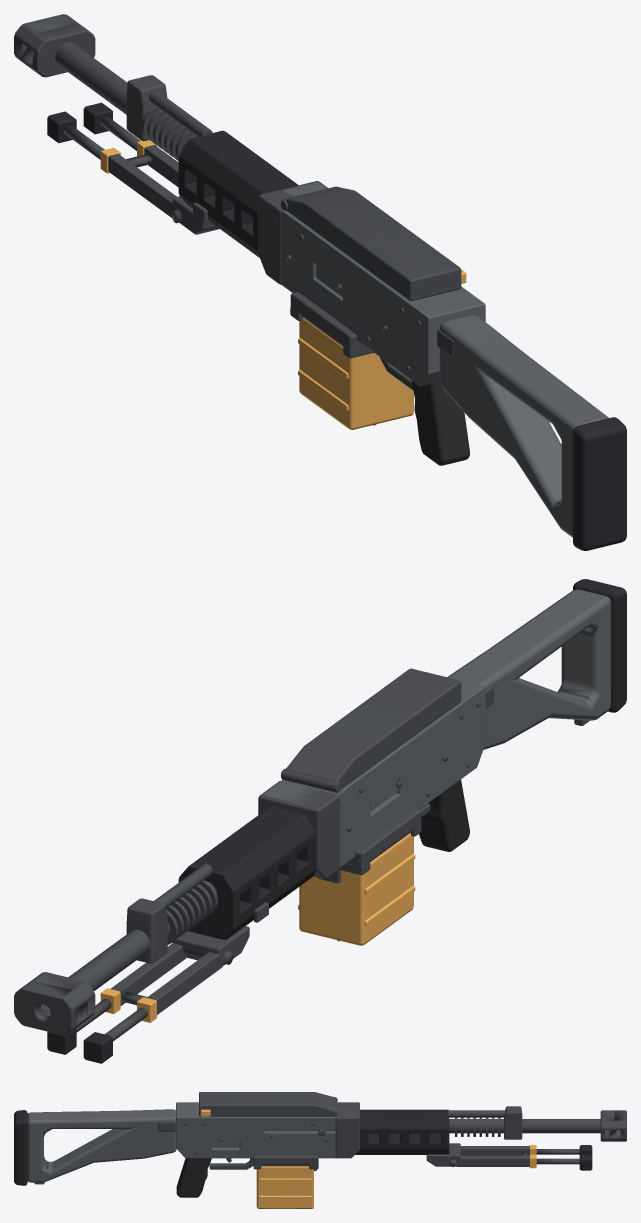
Rendered from hammer.glb.
3 renders of one model, top to bottom at view 1: azimuth 30°, elevation 25°; view 2: azimuth 150°, elevation 25°; view 3: azimuth 270°, elevation 25°, orthographic. The views are drawn at different scales.
Visible parts, largest first — view 1: stock.005, receiver.002, topcover, handguard.002, mag.004, buttpad.003, pgrip.003, brake.003, barrel.006, trunnion, hmagwell, hbipodlegl (+4 smaller); view 2: stock.005, receiver.002, handguard.002, topcover, mag.004, brake.003, trunnion, pgrip.003, buttpad.003, barrel.006, gasblock.002, hmagwell (+6 smaller); view 3: receiver.002, stock.005, handguard.002, topcover, mag.004, barrel.006, trunnion, pgrip.003, buttpad.003, brake.003, hbipodlegr, hmagwell (+8 smaller).
Boxes of the visible parts, x1,y1,x2,y2 form: stock.005: (439, 315, 608, 537); receiver.002: (280, 182, 485, 386); topcover: (286, 186, 461, 300); handguard.002: (178, 130, 298, 257); mag.004: (298, 315, 413, 429); buttpad.003: (573, 417, 626, 550); pgrip.003: (411, 380, 469, 465); brake.003: (14, 14, 95, 77); barrel.006: (55, 42, 127, 114); trunnion: (258, 181, 327, 284); hmagwell: (290, 292, 373, 358); hbipodlegl: (108, 154, 176, 217); stock.005: (447, 589, 611, 749); receiver.002: (263, 681, 485, 867); handguard.002: (178, 806, 316, 939); topcover: (286, 668, 461, 788); mag.004: (298, 830, 415, 945); brake.003: (14, 972, 95, 1035); trunnion: (258, 781, 339, 878); pgrip.003: (419, 779, 469, 851); buttpad.003: (573, 579, 626, 712); barrel.006: (68, 881, 217, 990); gasblock.002: (126, 898, 167, 963); hmagwell: (339, 808, 421, 875); receiver.002: (176, 1102, 356, 1158); stock.005: (27, 1109, 176, 1182); handguard.002: (355, 1109, 449, 1154); topcover: (199, 1092, 335, 1116); mag.004: (256, 1165, 316, 1208); barrel.006: (449, 1119, 600, 1133); trunnion: (335, 1102, 359, 1158); pgrip.003: (176, 1158, 211, 1197); buttpad.003: (14, 1110, 27, 1185); brake.003: (600, 1110, 626, 1141); hbipodlegr: (456, 1155, 529, 1166); hmagwell: (253, 1155, 318, 1169).
Size of the model in its own units: 0.102 by 0.2585 by 1.35.
